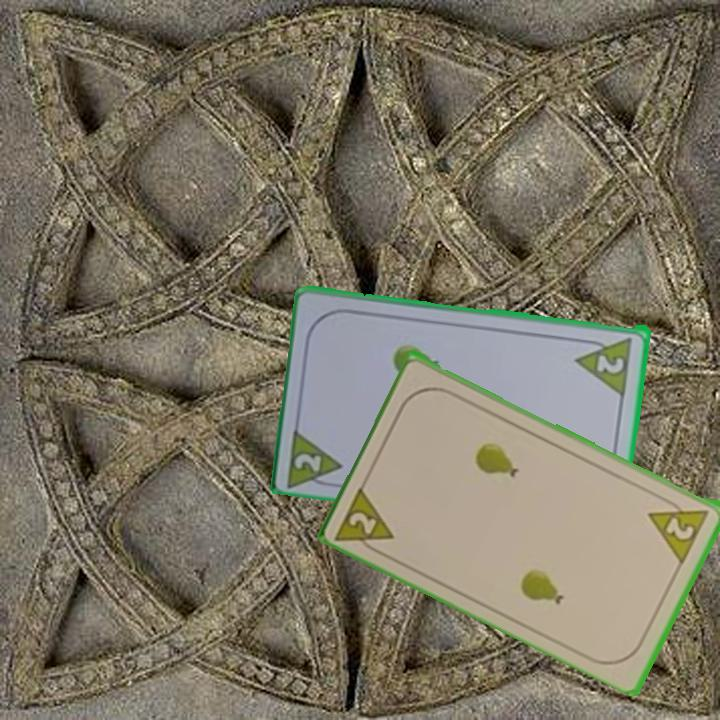2p: (332, 480, 398, 560), (645, 493, 712, 565), (593, 349, 628, 377), (291, 449, 325, 474)
